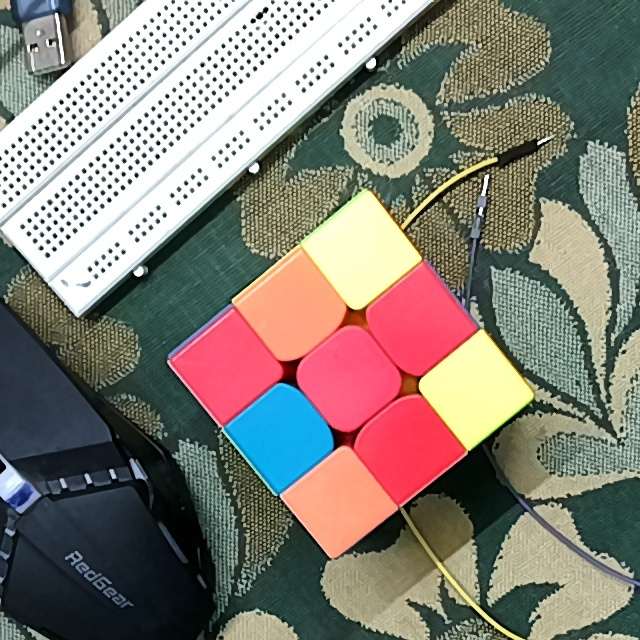tile: (387, 292, 448, 353), (328, 225, 393, 279), (260, 281, 319, 339), (376, 419, 436, 476), (255, 408, 313, 465), (319, 352, 377, 408), (203, 338, 256, 398), (449, 363, 502, 422), (314, 474, 369, 529)
